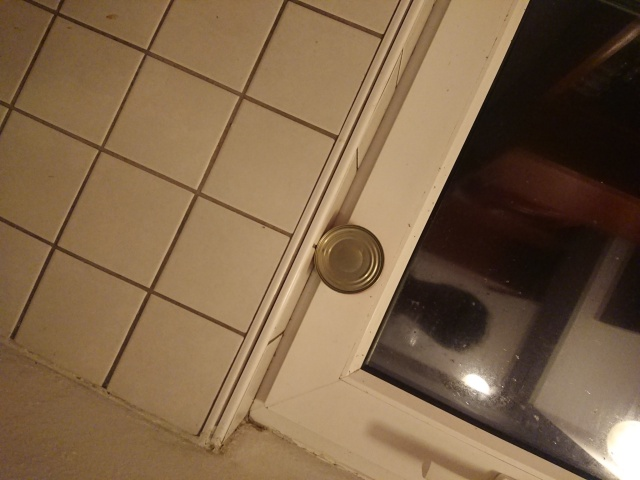Podravka Luncheon Meat 150g: (312, 222, 387, 297)
